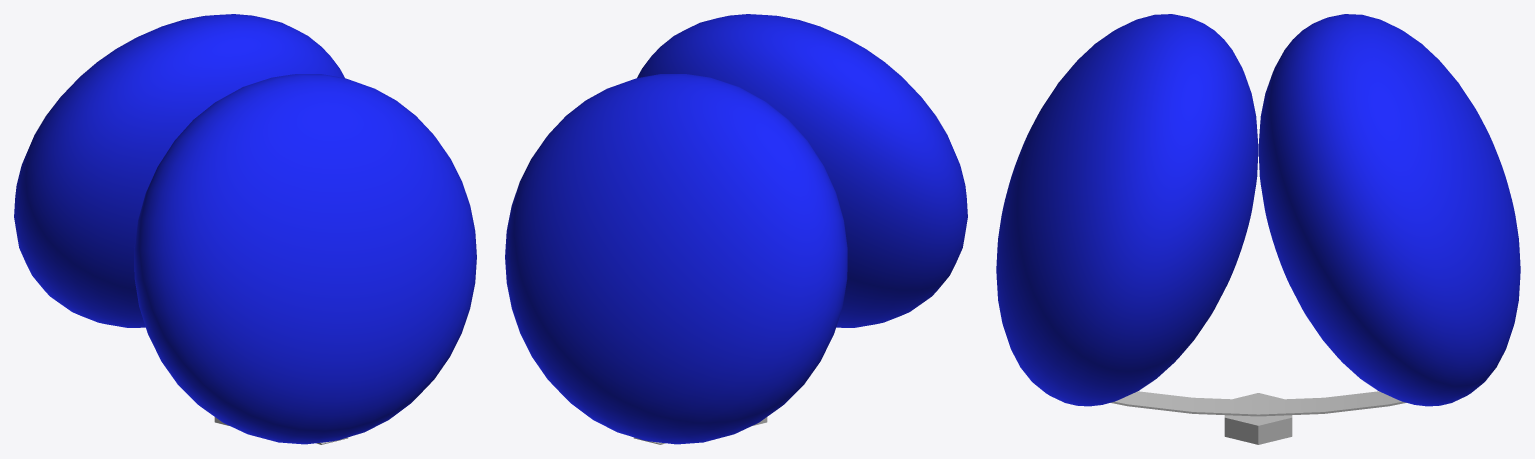
Rendered from stickyBuns_simple.obj.
3 views of the same model, side by side, from view 1: azimuth 30°, elevation 25°; view 2: azimuth 150°, elevation 25°; view 3: azimuth 270°, elevation 25° (orthographic). The views are drawn at different scales.
Parts seen in each view (by area): view 1: Solid1; view 2: Solid1; view 3: Solid1.
Part boxes in pixels (x1,y1,x2,y2): Solid1: (14, 14, 476, 444); Solid1: (505, 14, 967, 444); Solid1: (996, 14, 1520, 444).
Size of the model in its own units: 23.96 by 25.75 by 31.01.
